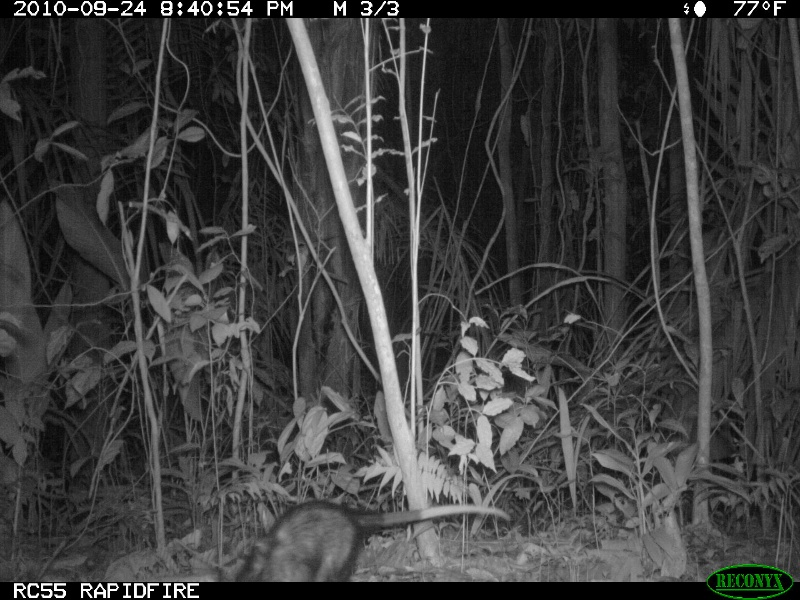opossum: (204, 501, 508, 580)
